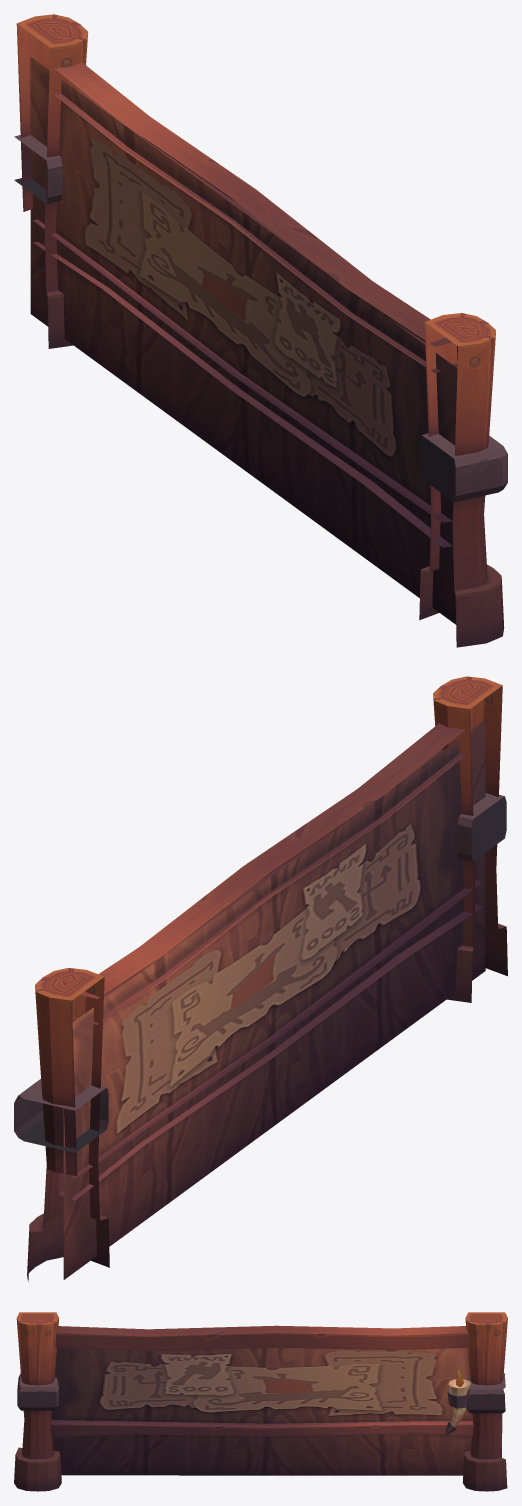
3 views of the same model, one above another, from view 1: azimuth 30°, elevation 25°; view 2: azimuth 150°, elevation 25°; view 3: azimuth 270°, elevation 25° (orthographic). The views are drawn at different scales.
Parts seen in each view (by area): view 1: mesh_all1; view 2: mesh_all1; view 3: mesh_all1.
Part boxes in pixels (x1=…): mesh_all1: x1=14, y1=14, x2=507, y2=647; mesh_all1: x1=14, y1=676, x2=507, y2=1281; mesh_all1: x1=14, y1=1312, x2=507, y2=1491.
Bounding box in the file's own units: 164 × 699 × 1902.
